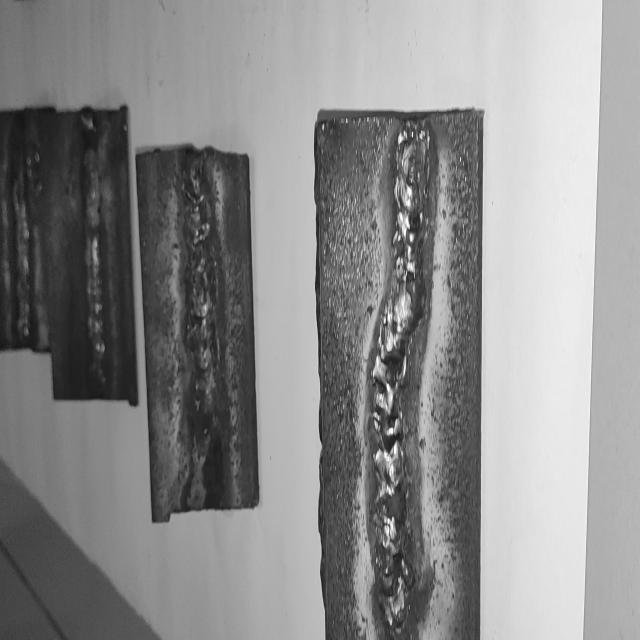Bad Weld: (366, 121, 428, 618), (182, 159, 217, 406), (14, 182, 29, 342)
Defect: (356, 337, 418, 604), (394, 133, 436, 312), (180, 396, 230, 505), (6, 120, 44, 198)
Good Weld: (84, 130, 104, 390)
